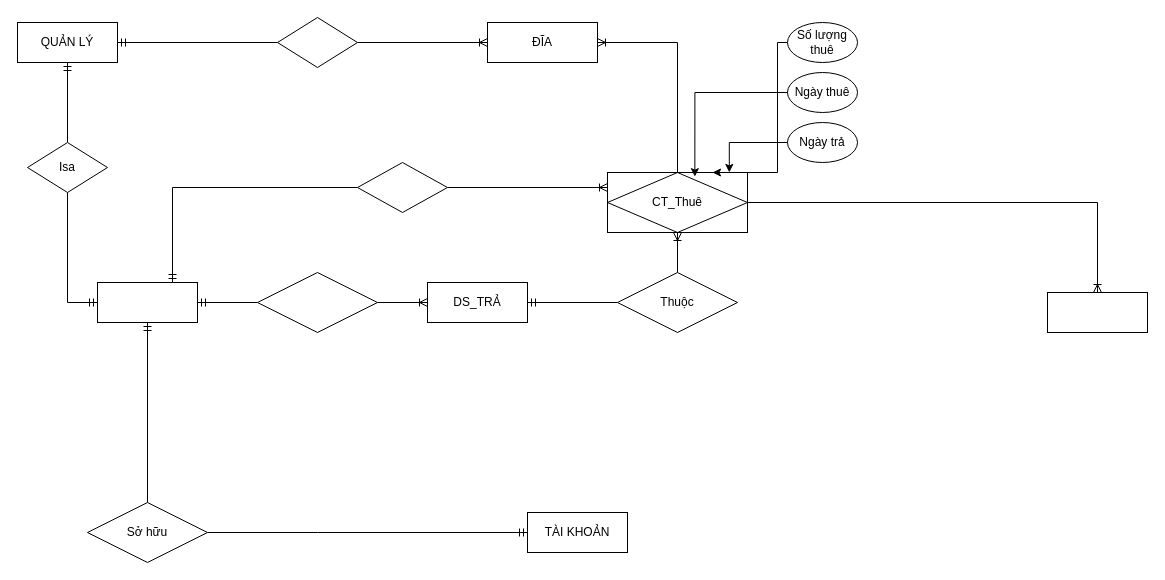
Image size: 1165x580. Some labels were removed from this diagram. The centre of each missing label's shape, as x and y in pixels:
"Cập nhật" goes at pixel 317 42.
"KHÁCH HÀNG" goes at pixel 1097 312.
"NHÂN VIÊN" goes at pixel 147 302.
"Xác nhận" goes at pixel 402 187.
"Xử lý" goes at pixel 317 302.
